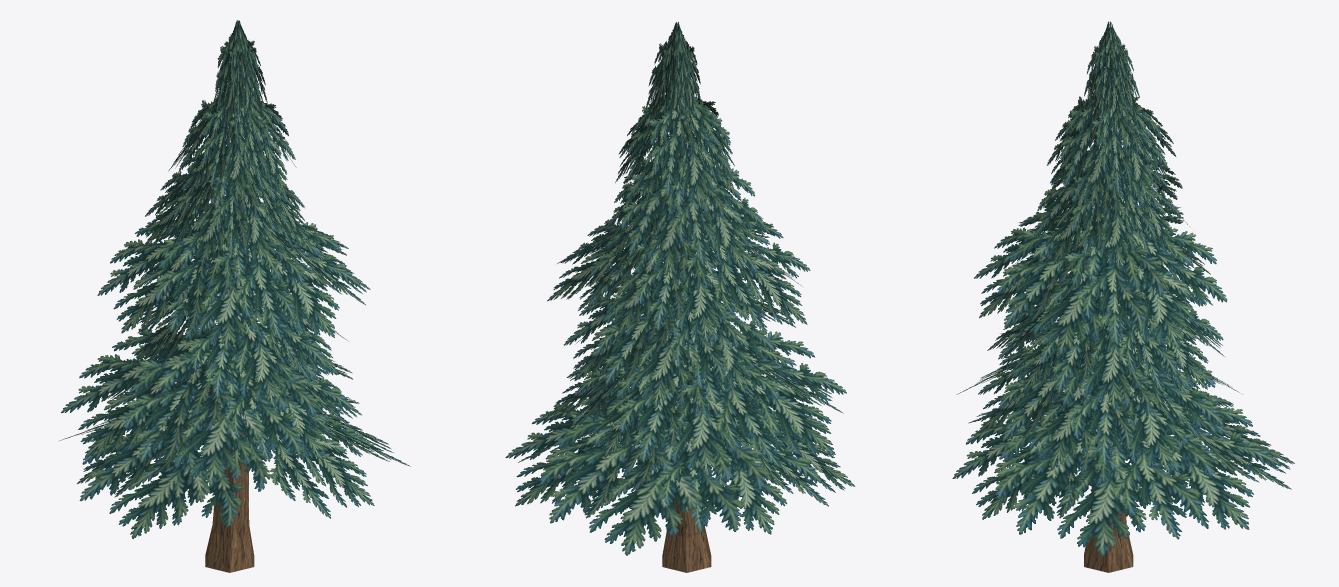
The model's file is Abete_08_Salvia_Espanso.obj.
3 views of the same model, side by side, from view 1: azimuth 30°, elevation 25°; view 2: azimuth 150°, elevation 25°; view 3: azimuth 270°, elevation 25° (orthographic).
Visible parts, largest first — view 1: Abete_08_Salvia_Espanso; view 2: Abete_08_Salvia_Espanso; view 3: Abete_08_Salvia_Espanso.
Part boxes in pixels (x1,y1,x2,y2): Abete_08_Salvia_Espanso: (59,20,410,572); Abete_08_Salvia_Espanso: (505,22,855,572); Abete_08_Salvia_Espanso: (952,21,1294,572).
Size of the model in its own units: 4.02 by 5.9 by 4.01.
Materials: 2 (2 with a texture image).
